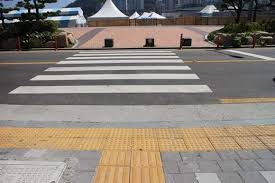guide_blocks: (1, 127, 275, 151), (93, 152, 164, 183)
